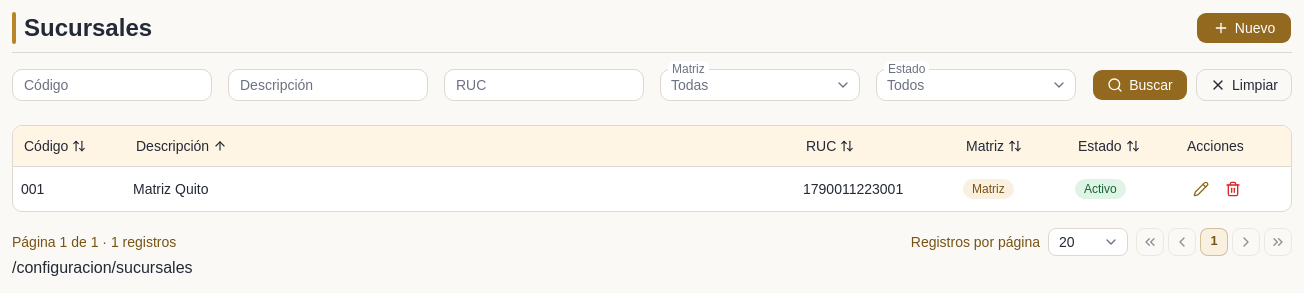
Scenario: PaginaSucursales › aplica los filtros al buscar
Check: the table is shown, box left=13, top=126, right=1291, bottom=210
In the field labelled "Descripción": (328, 85) left=228, top=69, right=428, bottom=101, type "Norte"
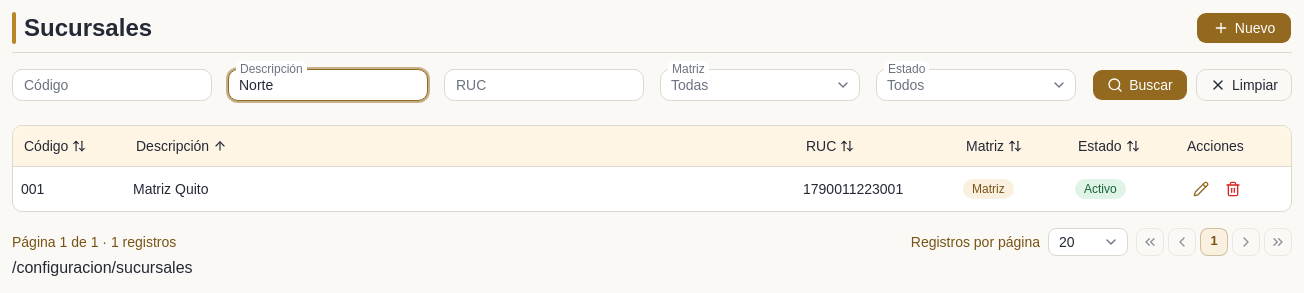
Click the button "Buscar": (1140, 85) left=1092, top=69, right=1188, bottom=101
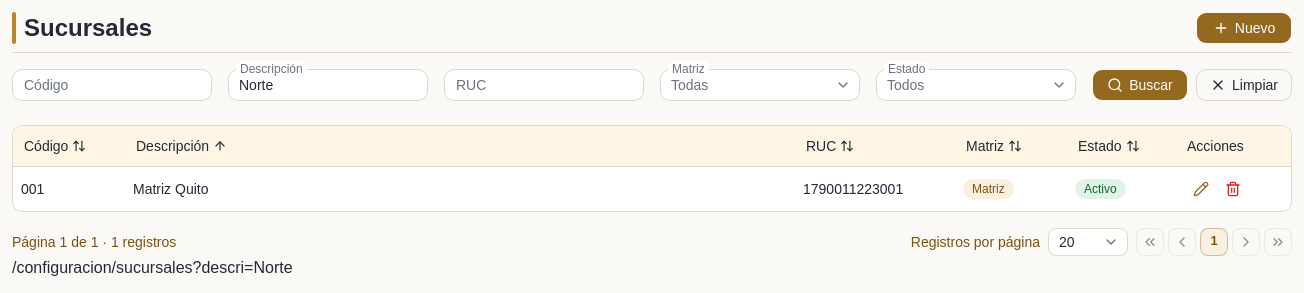
Check: the text named "Ubicación" reads "/configuracion/sucursales?descri=Norte", box left=12, top=258, right=293, bottom=276
